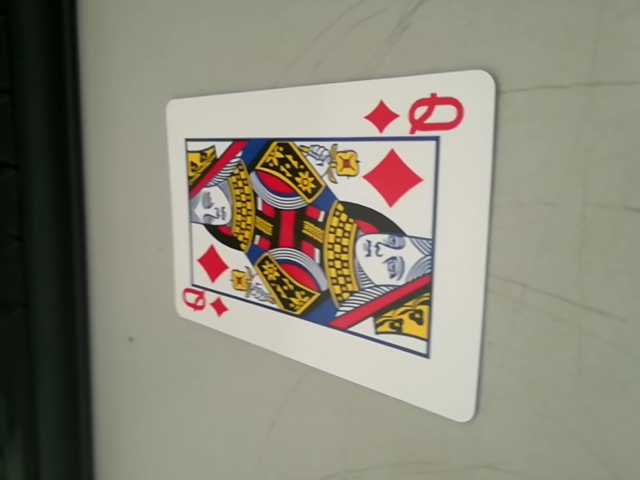fk q: (365, 89, 471, 139), (176, 284, 232, 323)
